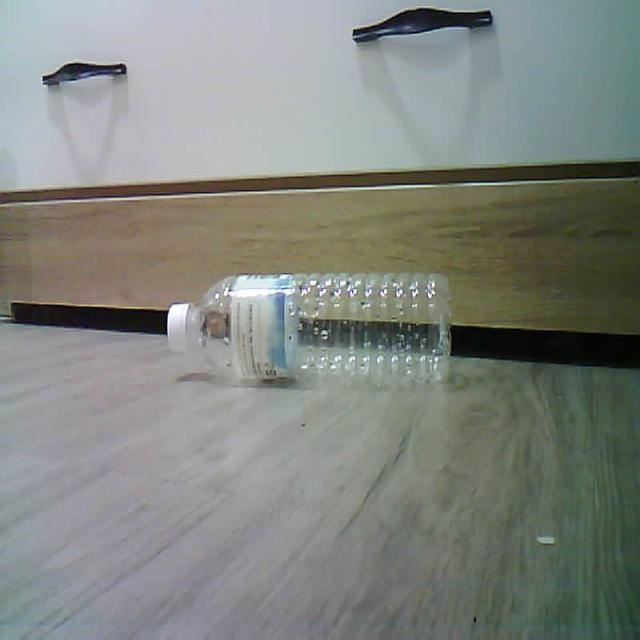bottle: (167, 273, 450, 386)
